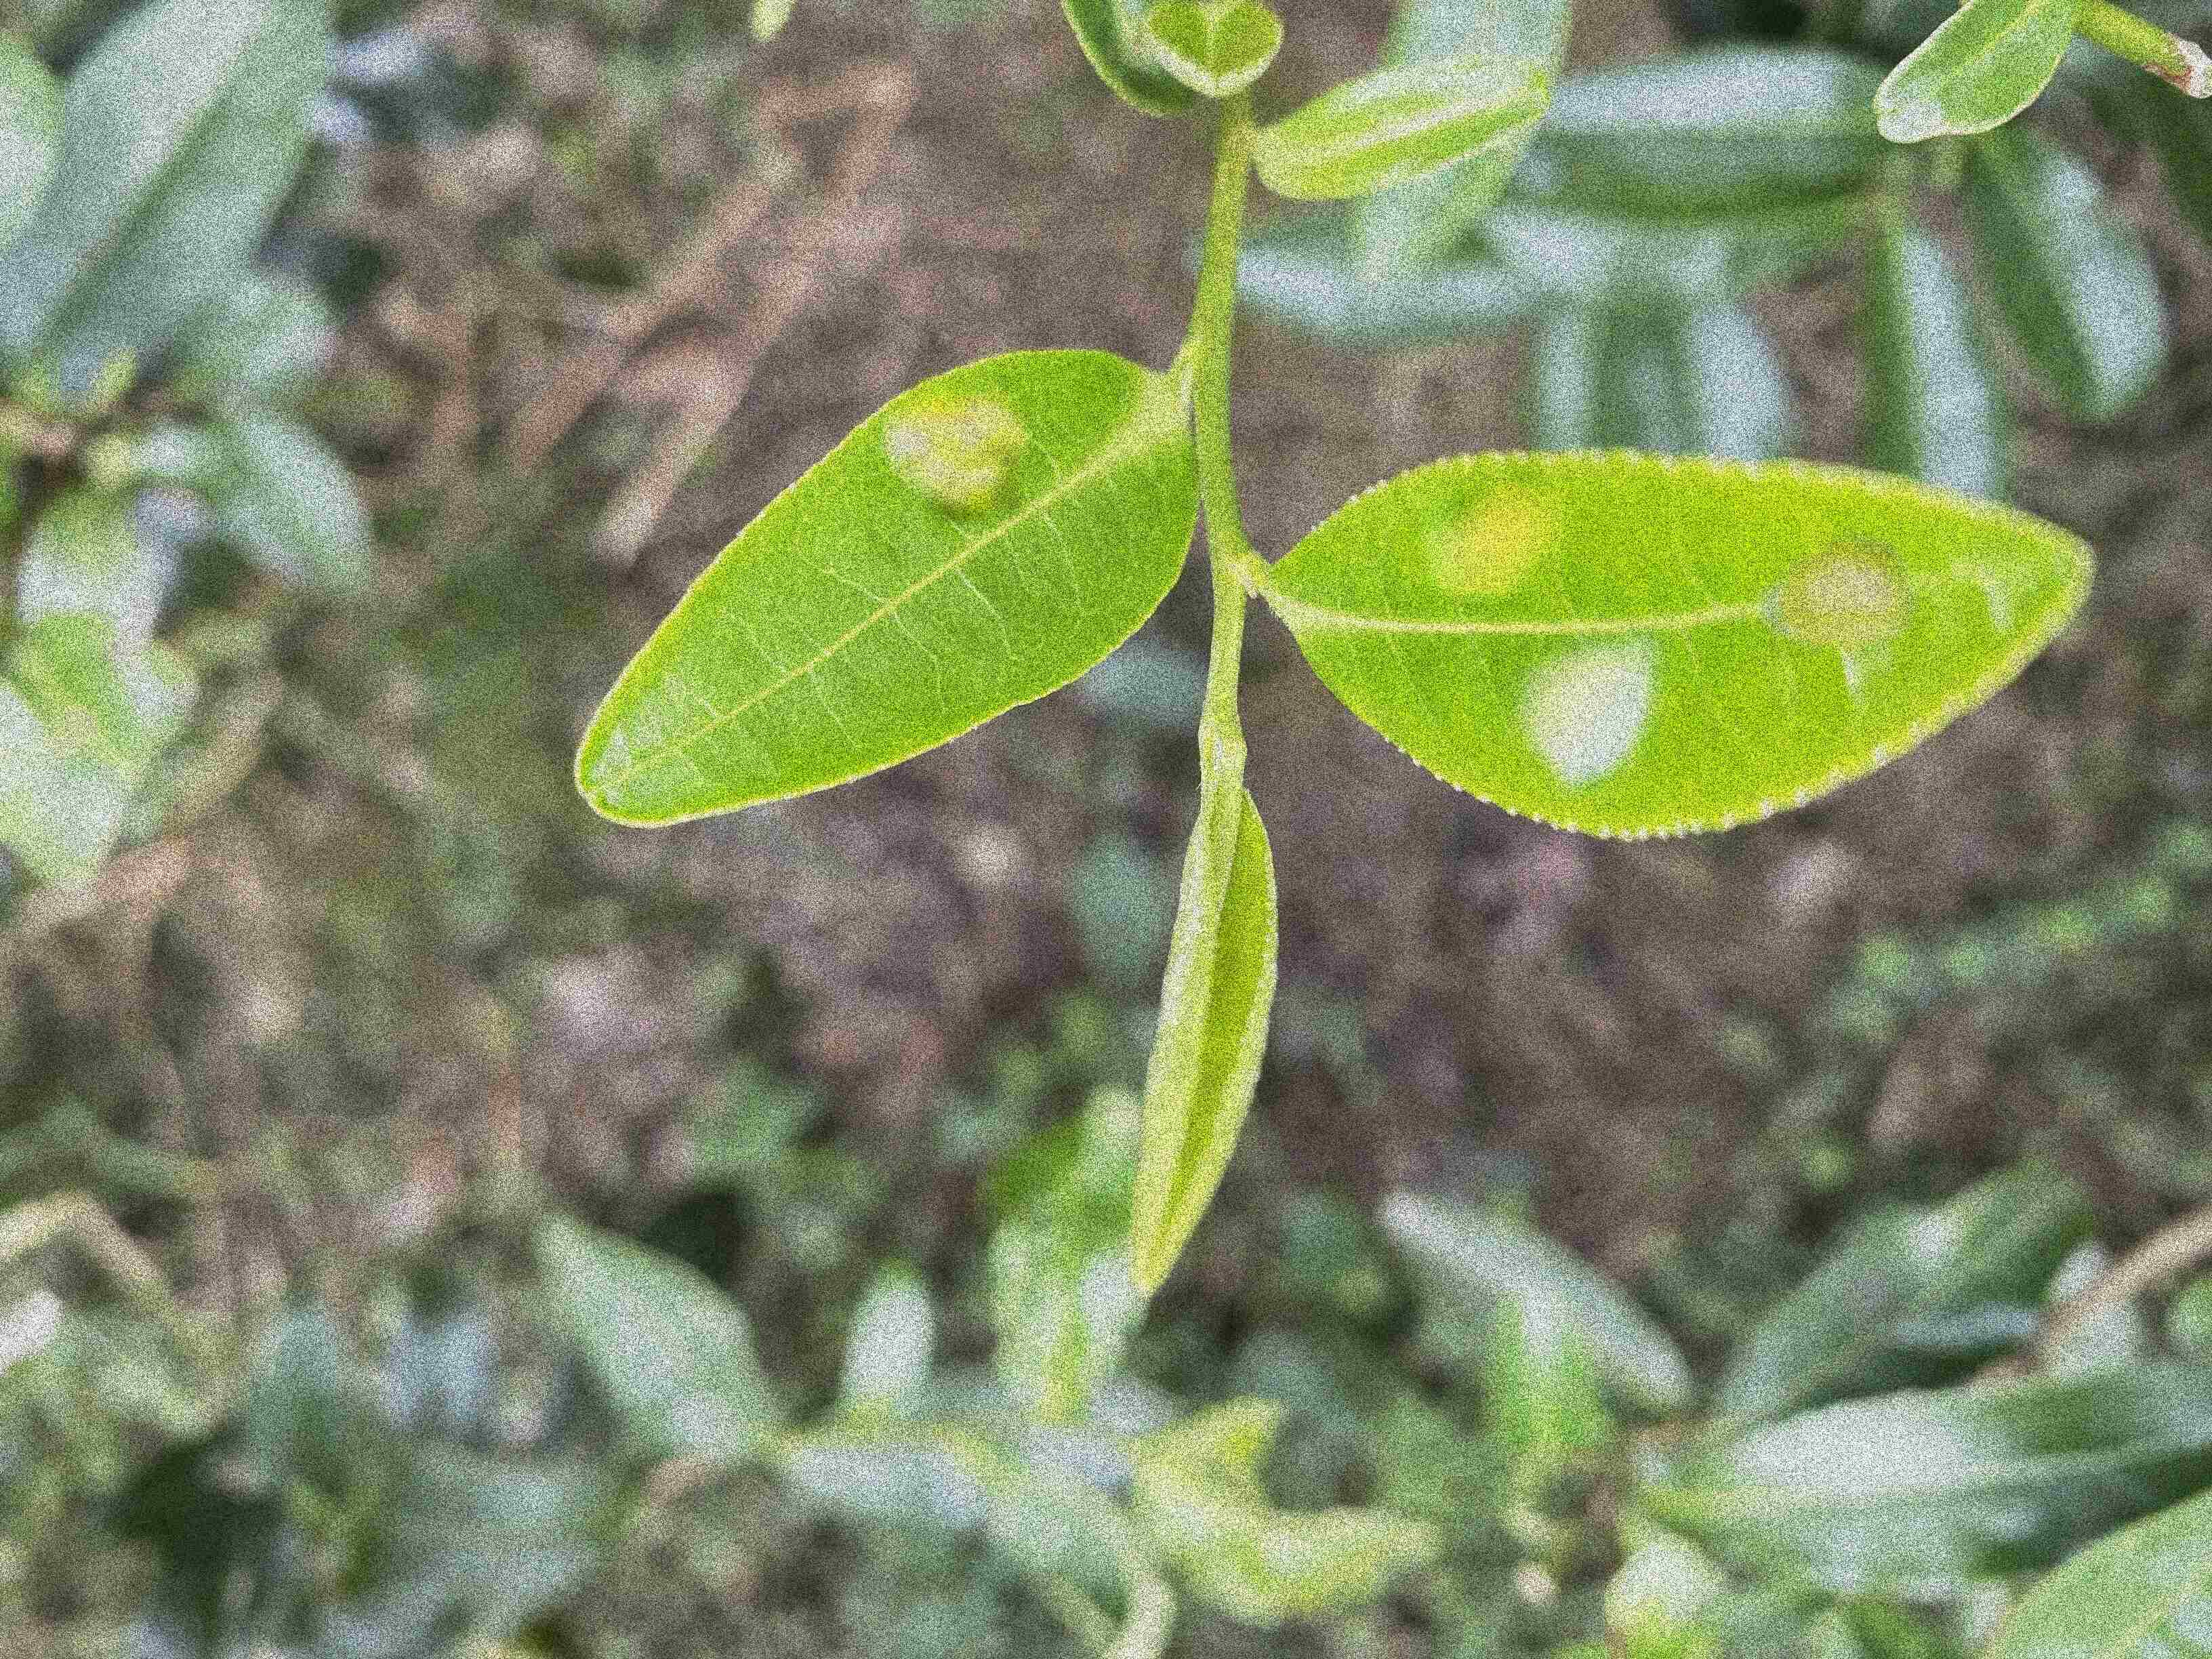chabing_high: (1264, 448, 2097, 842)
chabing_low: (571, 345, 1200, 833)
